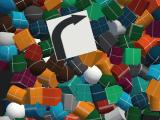Right: (46, 10, 98, 62)
